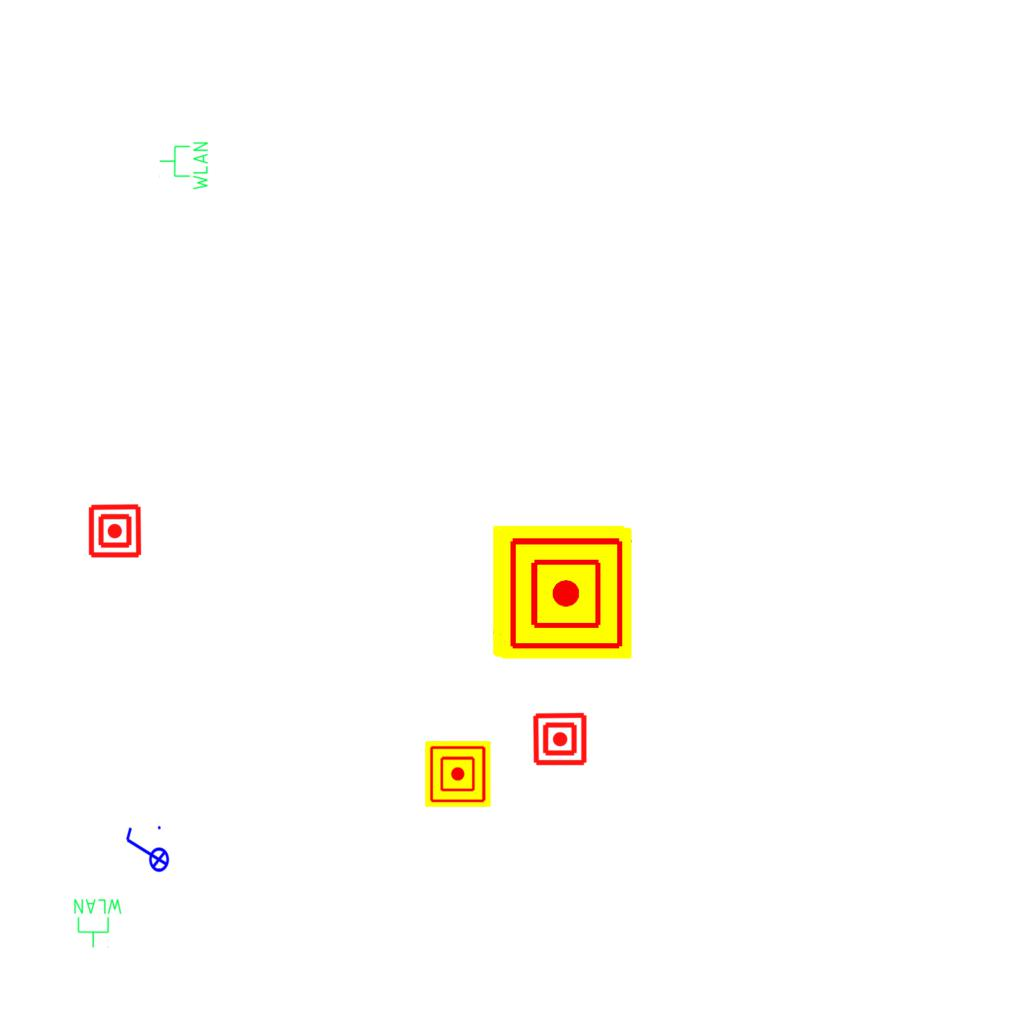Ausschalter_beleuchtet: (122, 823, 170, 879)
NAM-Nichtautomatischer_Melder: (493, 525, 625, 657), (500, 527, 632, 659), (425, 741, 491, 807), (87, 503, 143, 559), (532, 711, 588, 767)
WLAN: (72, 897, 124, 949), (158, 140, 210, 192)
